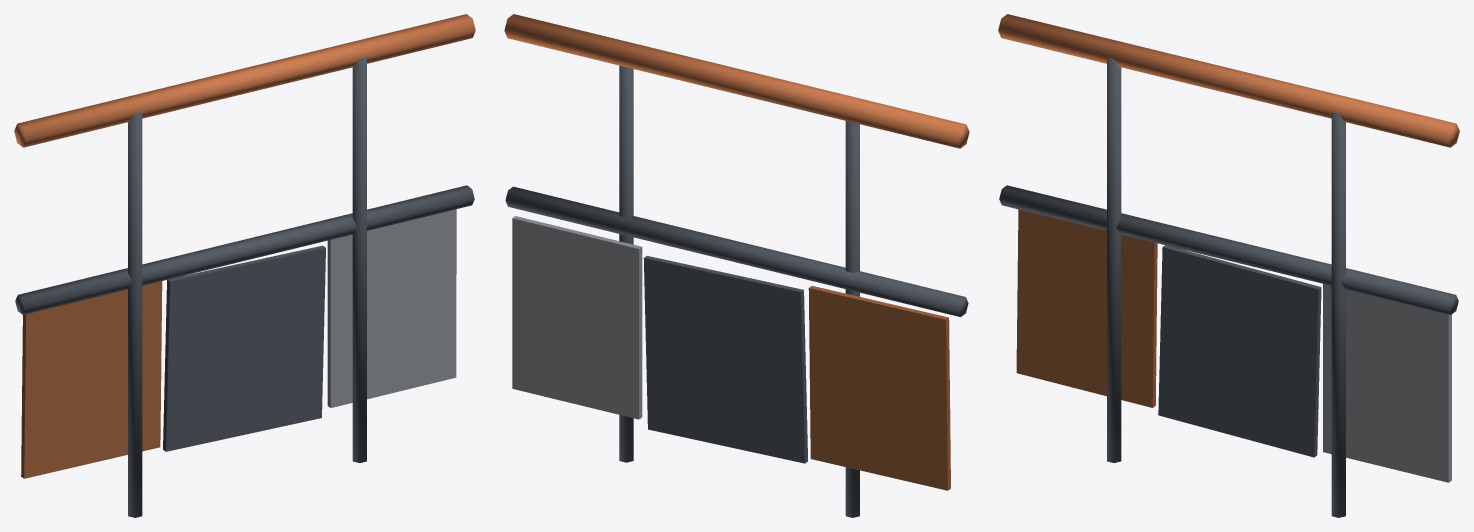
Rendered from fence-pipe-run.lod1.glb.
3 renders of one model, left to right at view 1: azimuth 30°, elevation 25°; view 2: azimuth 150°, elevation 25°; view 3: azimuth 330°, elevation 25°, orthographic.
Parts seen in each view (by area): view 1: fence-pipe-run_lod1; view 2: fence-pipe-run_lod1; view 3: fence-pipe-run_lod1.
Part boxes in pixels (bbox=[...]): fence-pipe-run_lod1: bbox=[14, 14, 475, 517]; fence-pipe-run_lod1: bbox=[504, 14, 969, 517]; fence-pipe-run_lod1: bbox=[998, 14, 1459, 517].
Bounding box in the file's own units: 1 × 0.8808 × 0.052.
